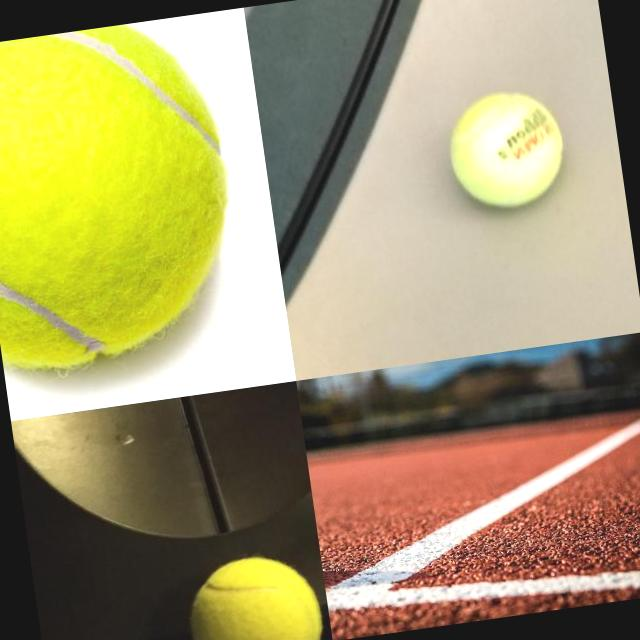Tennis Ball: (0, 13, 251, 379), (442, 85, 575, 216), (179, 545, 328, 640)
